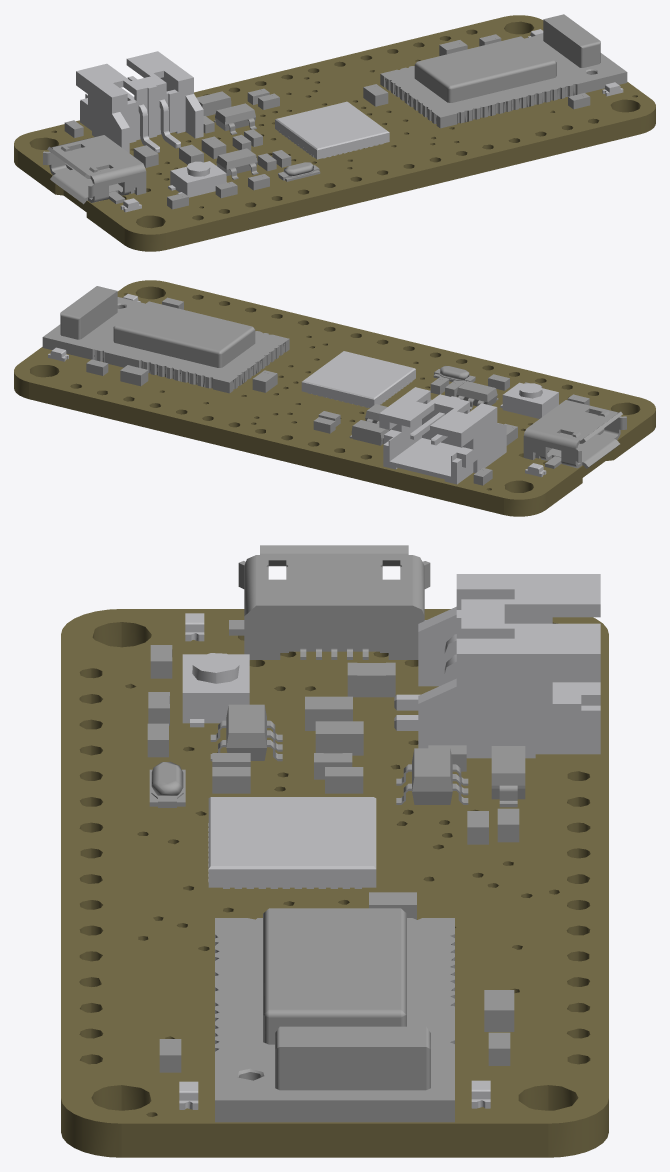
The model's file is ada-2995.glb.
3 renders of one model, top to bottom at view 1: azimuth 30°, elevation 25°; view 2: azimuth 150°, elevation 25°; view 3: azimuth 270°, elevation 25°, orthographic. The views are drawn at different scales.
Parts seen in each view (by area): view 1: 0.16666666666666666_0.16666666666666666_0.08333333333333333_, 0.3333333333333333_0.3333333333333333_0.3333333333333333_0, 0.5833333333333334_0.5833333333333334_0.5833333333333334_0.8; view 2: 0.16666666666666666_0.16666666666666666_0.08333333333333333_, 0.3333333333333333_0.3333333333333333_0.3333333333333333_0, 0.5833333333333334_0.5833333333333334_0.5833333333333334_0.8; view 3: 0.16666666666666666_0.16666666666666666_0.08333333333333333_, 0.3333333333333333_0.3333333333333333_0.3333333333333333_0, 0.5833333333333334_0.5833333333333334_0.5833333333333334_0.8.
Part boxes in pixels (box(x1,y1,x2,y2)): 0.16666666666666666_0.16666666666666666_0.08333333333333333_: box(14, 15, 655, 251); 0.3333333333333333_0.3333333333333333_0.3333333333333333_0: box(43, 14, 627, 209); 0.5833333333333334_0.5833333333333334_0.5833333333333334_0.8: box(76, 29, 623, 212); 0.16666666666666666_0.16666666666666666_0.08333333333333333_: box(14, 280, 655, 516); 0.3333333333333333_0.3333333333333333_0.3333333333333333_0: box(42, 286, 626, 485); 0.5833333333333334_0.5833333333333334_0.5833333333333334_0.8: box(48, 294, 558, 484); 0.16666666666666666_0.16666666666666666_0.08333333333333333_: box(61, 609, 608, 1157); 0.3333333333333333_0.3333333333333333_0.3333333333333333_0: box(147, 545, 525, 1122); 0.5833333333333334_0.5833333333333334_0.5833333333333334_0.8: box(179, 574, 600, 1109).
Size of the model in its own units: 5.13 by 0.6369 by 2.29.
